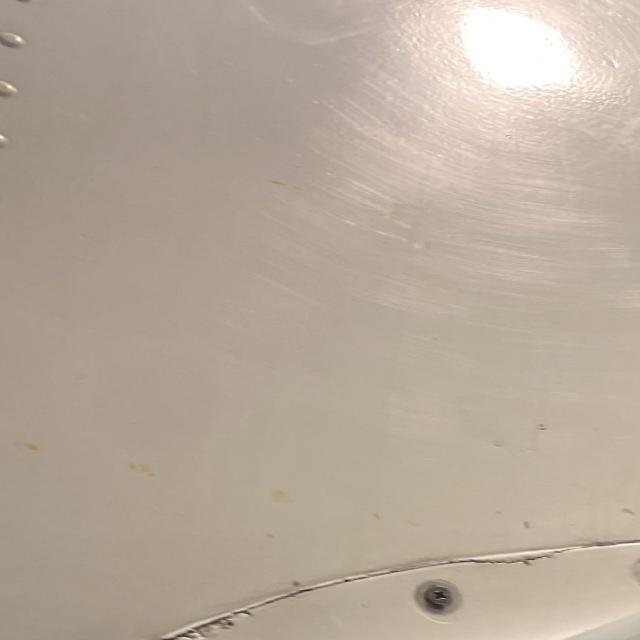Crack: (424, 545, 587, 575)
Missing-head: (631, 556, 640, 582)
Paint-off: (615, 503, 636, 516), (516, 517, 533, 528)
